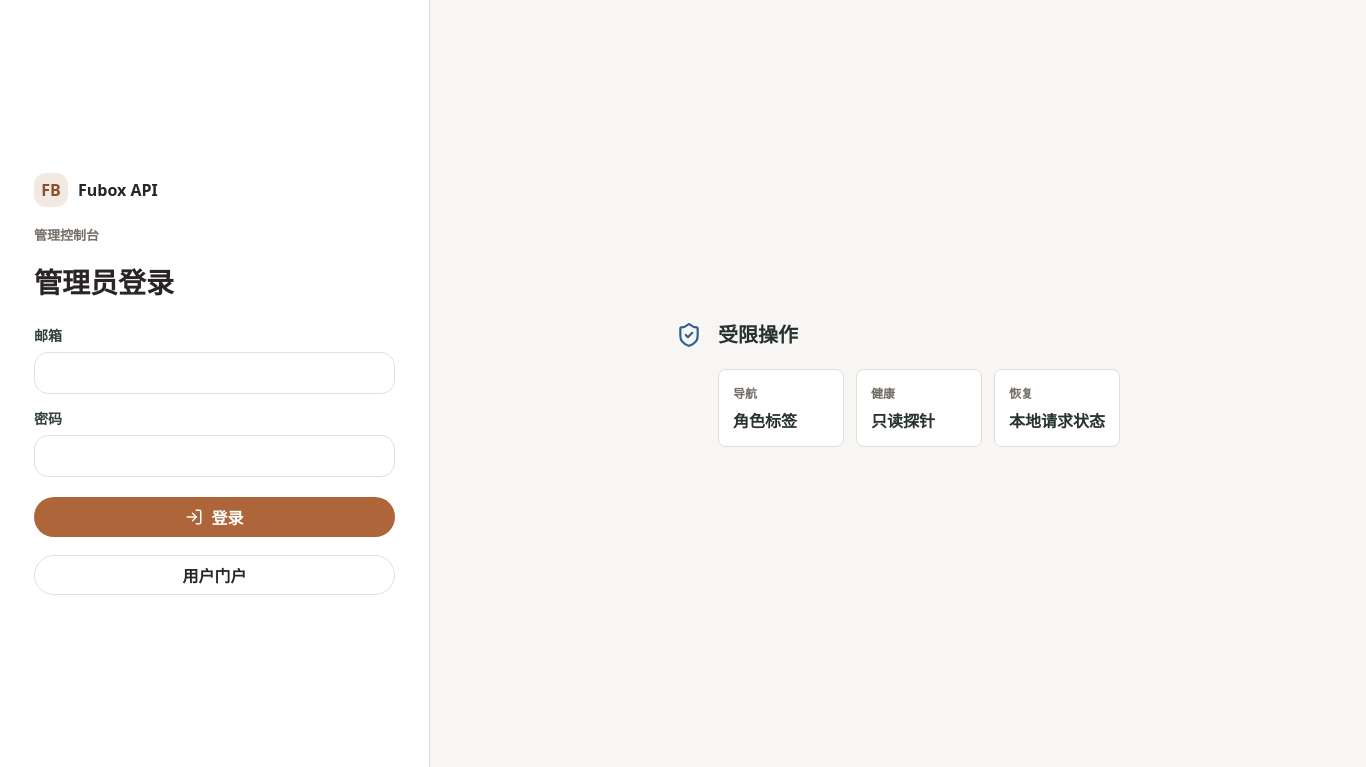
App › shows request log and provider key navigation after sign-in
Type "operator@example.com" into the field labelled "邮箱". click: (214, 373)
box: [34,352,395,394]
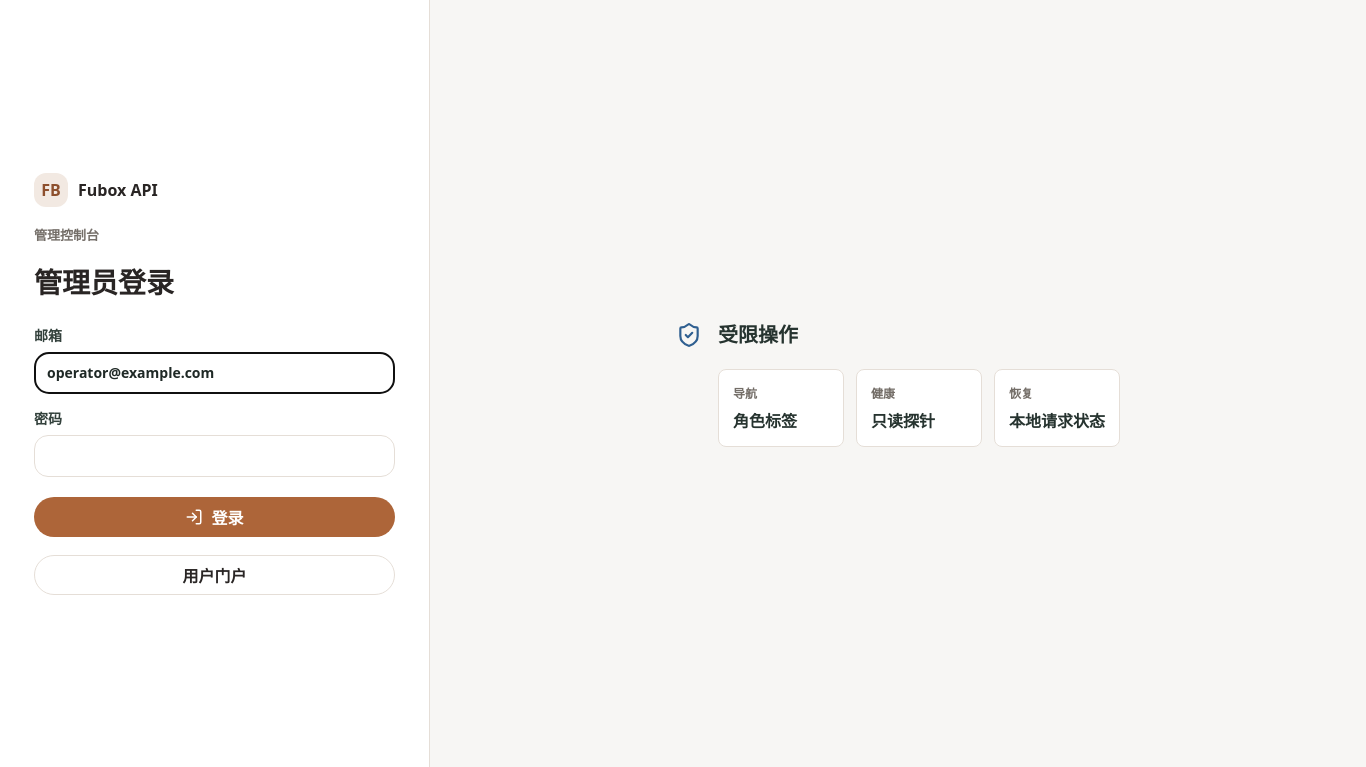
Type "local-password" into the password field labelled "密码". click: (214, 456)
box: [34,435,395,477]
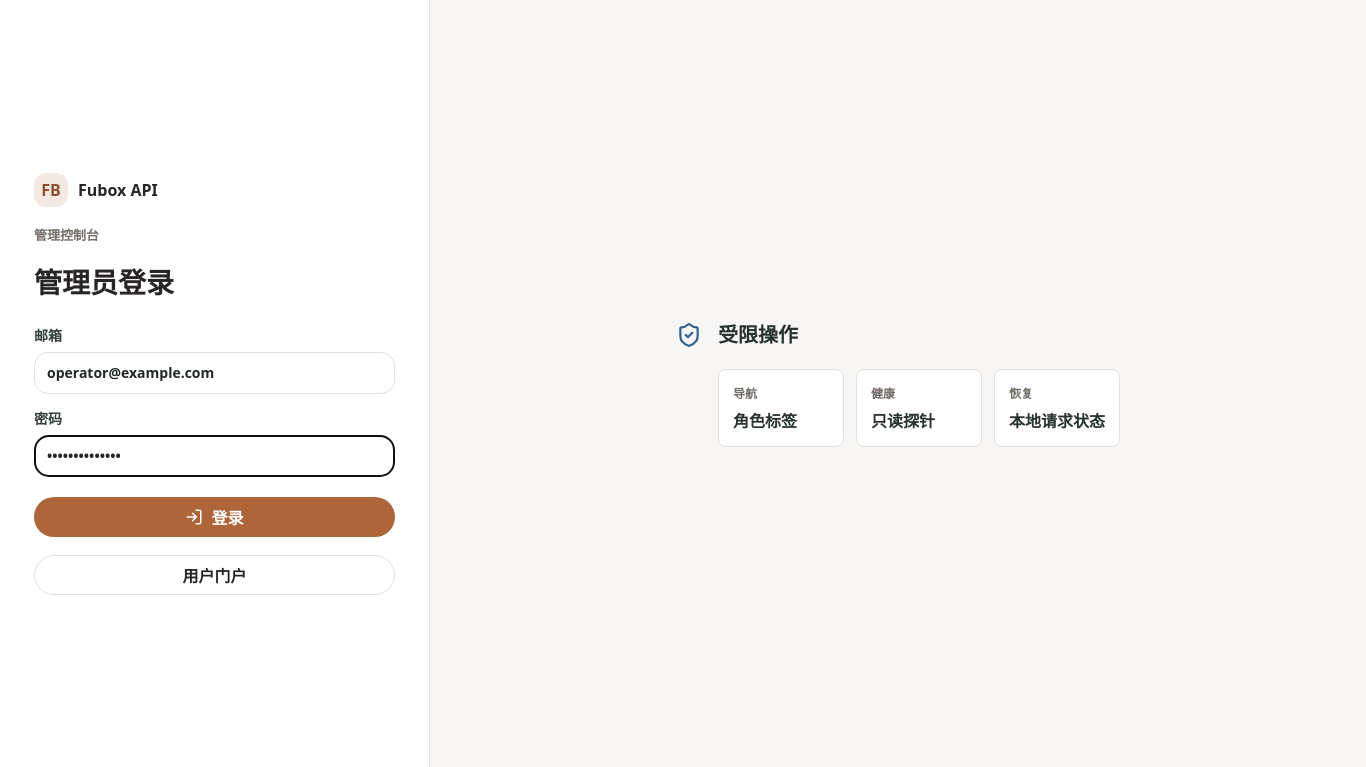
Click the button "登录". click: click(214, 517)
box: [34,497,395,537]
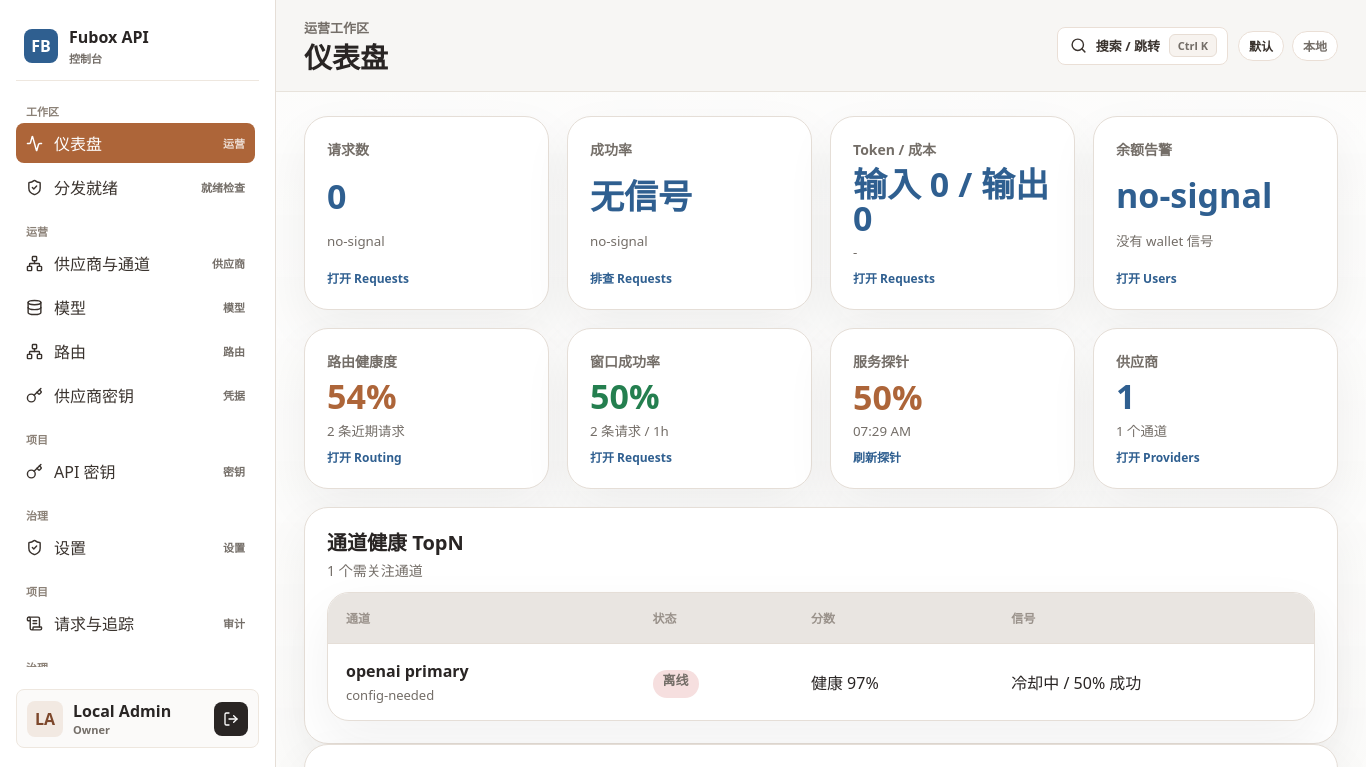
Expected: the button "请求与追踪 审计" is shown, [16,603,255,643]
Expected: the button "供应商密钥 凭据" is shown, [16,375,255,415]
Expected: the button "API 密钥 密钥" is shown, [16,451,255,491]
